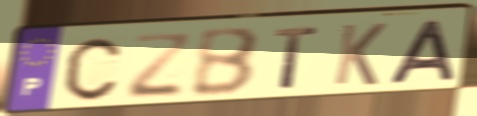A: (383, 17, 459, 86)
B: (190, 25, 262, 99)
C: (63, 35, 124, 102)
K: (331, 21, 389, 87)
T: (272, 25, 320, 91)
Z: (124, 33, 195, 101)
